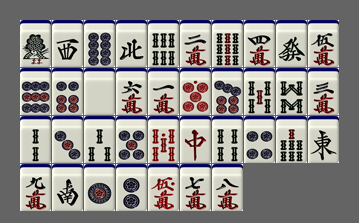0m: (148, 164, 179, 211)
0p: (180, 68, 211, 115)
0s: (148, 116, 179, 163)
1m: (148, 68, 179, 115)
1p: (84, 164, 115, 211)
1s: (20, 20, 51, 67)
1z: (308, 116, 339, 163)
2m: (180, 20, 211, 67)
2p: (116, 164, 147, 211)
2s: (20, 116, 51, 163)
2z: (52, 164, 83, 211)
3m: (308, 68, 339, 115)
3p: (52, 116, 83, 163)
3s: (84, 116, 115, 163)
3z: (52, 20, 83, 67)
4m: (244, 20, 275, 67)
4p: (244, 116, 275, 163)
4s: (212, 116, 243, 163)
4z: (116, 20, 147, 67)
5m: (308, 20, 339, 67)
5p: (116, 116, 147, 163)
5s: (244, 68, 275, 115)
5z: (84, 68, 115, 115)
6m: (116, 68, 147, 115)
6p: (52, 68, 83, 115)
6s: (148, 20, 179, 67)
6z: (276, 20, 307, 67)
7m: (180, 164, 211, 211)
7p: (212, 68, 243, 115)
7s: (276, 116, 307, 163)
7z: (180, 116, 211, 163)
8m: (212, 164, 243, 211)
8p: (84, 20, 115, 67)
8s: (276, 68, 307, 115)
9m: (20, 164, 51, 211)
9p: (20, 68, 51, 115)
9s: (212, 20, 243, 67)
